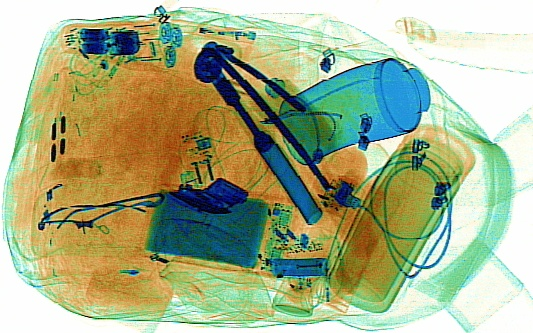lighter: (172, 20, 256, 42)
